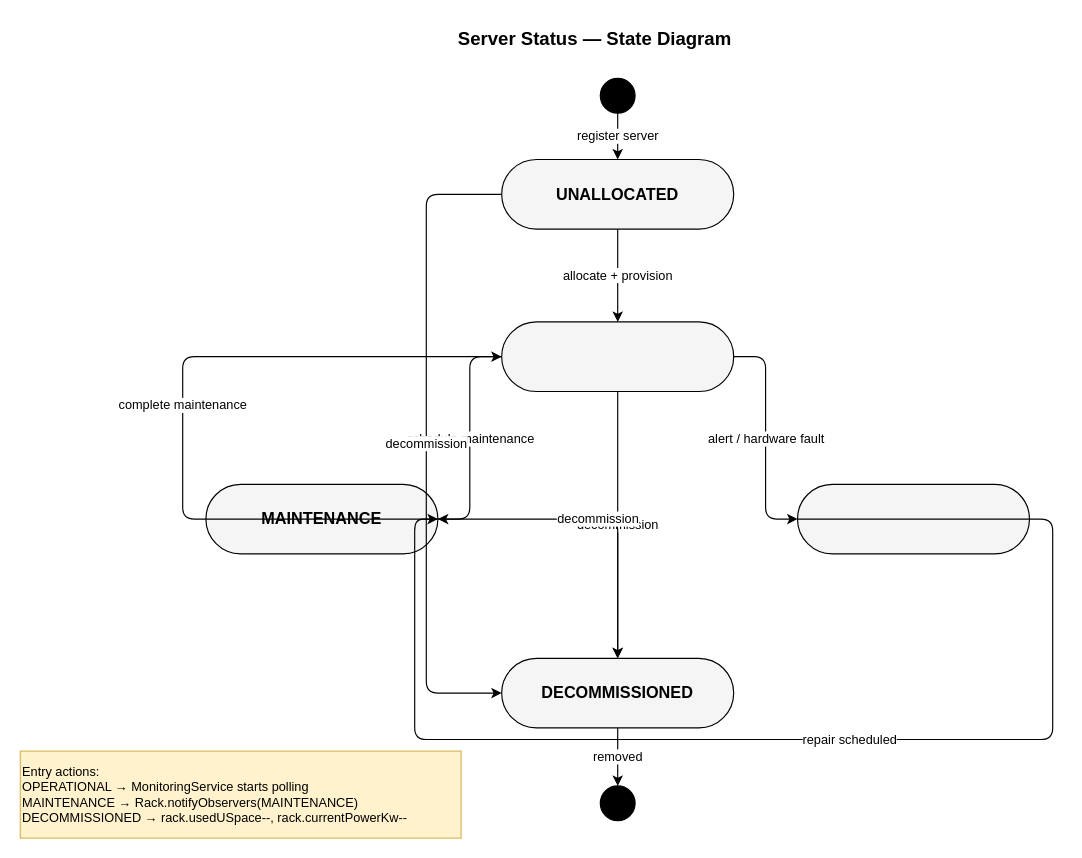
Some shapes in this 1082 by 858 pixel diagram are drawn without their labels. The shapes that lost their labels are listed below. From the top down, each one's centre as x and y in pixels, then its label:
At (617,356): "OPERATIONAL".
At (913,518): "FAULTY".
